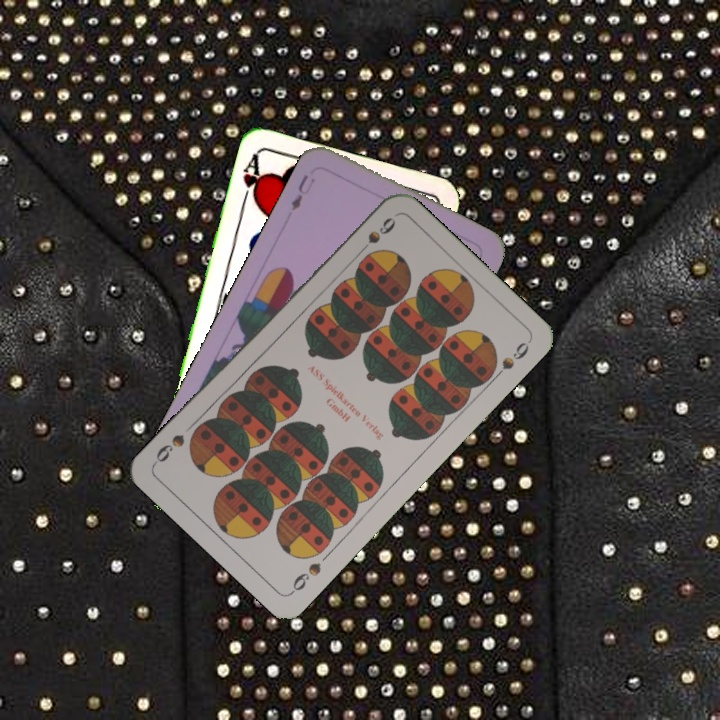EU: (287, 170, 318, 214)
HA: (237, 150, 266, 209)
S9: (352, 213, 399, 259), (287, 558, 324, 597)
